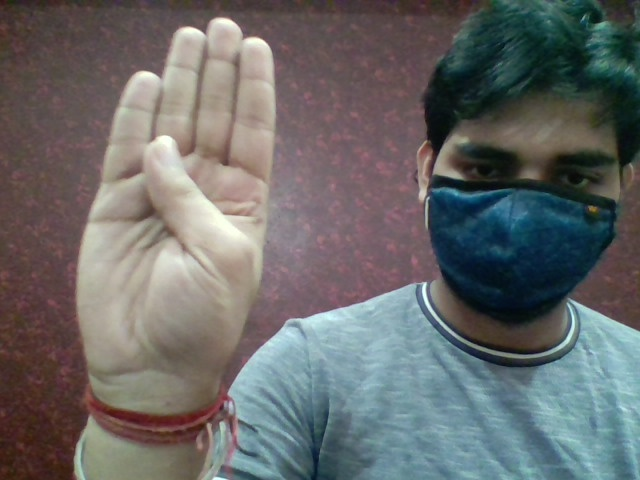b: (68, 13, 280, 387)
